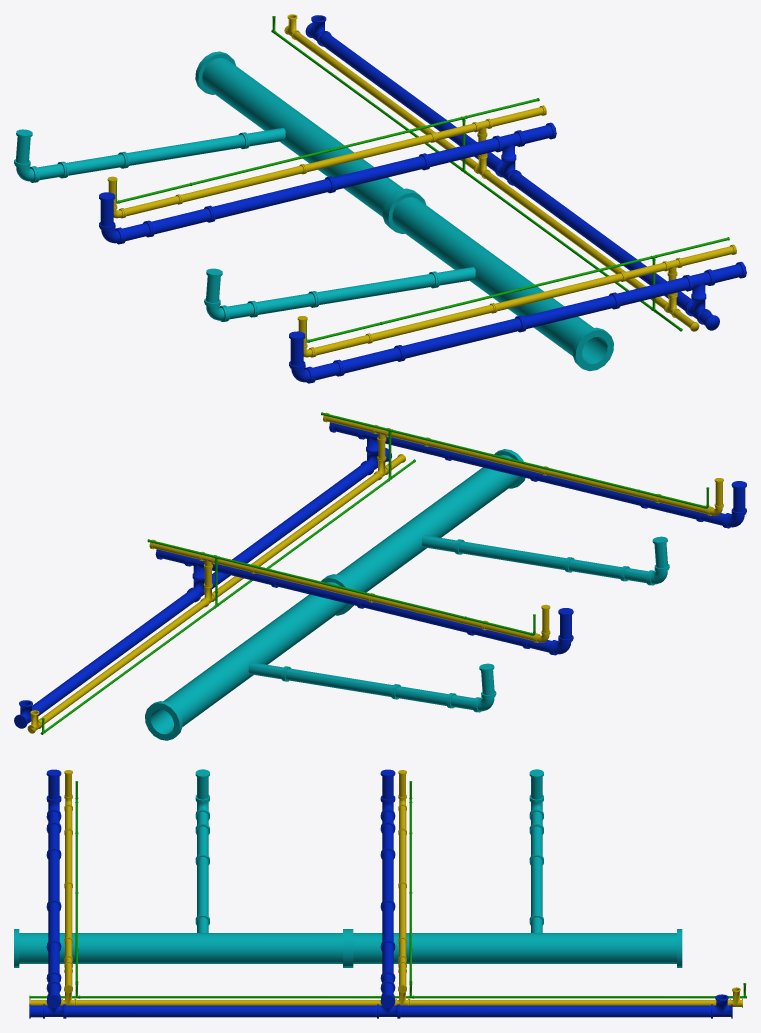
Rendered from pipe.fbx.
3 renders of one model, top to bottom at view 1: azimuth 30°, elevation 25°; view 2: azimuth 150°, elevation 25°; view 3: azimuth 270°, elevation 25°, orthographic. The views are drawn at different scales.
Visible parts, largest first — view 1: PIPE SET 2, PIPE SET 2.001, PIPES.001, PIPES, PIPE SET1 START; view 2: PIPE SET 2.001, PIPE SET 2, PIPES.001, PIPES, PIPE SET1 START; view 3: PIPE SET 2.001, PIPE SET 2, PIPES.001, PIPES, PIPE SET1 START.
Part boxes in pixels (x1=…): PIPE SET 2: x1=204, y1=190, x2=746, y2=383; PIPE SET 2.001: x1=14, y1=51, x2=556, y2=244; PIPES.001: x1=271, y1=14, x2=502, y2=174; PIPES: x1=461, y1=156, x2=692, y2=313; PIPE SET1 START: x1=651, y1=293, x2=719, y2=331; PIPE SET 2.001: x1=145, y1=539, x2=573, y2=740; PIPE SET 2: x1=321, y1=412, x2=746, y2=611; PIPES.001: x1=14, y1=588, x2=216, y2=734; PIPES: x1=190, y1=461, x2=389, y2=606; PIPE SET1 START: x1=364, y1=448, x2=415, y2=480; PIPE SET 2.001: x1=348, y1=769, x2=682, y2=1008; PIPE SET 2: x1=14, y1=769, x2=348, y2=1008; PIPES.001: x1=399, y1=983, x2=746, y2=1018; PIPES: x1=65, y1=983, x2=412, y2=1018; PIPE SET1 START: x1=29, y1=984, x2=78, y2=1018.
Size of the model in its own units: 274 by 54.04 by 437.
